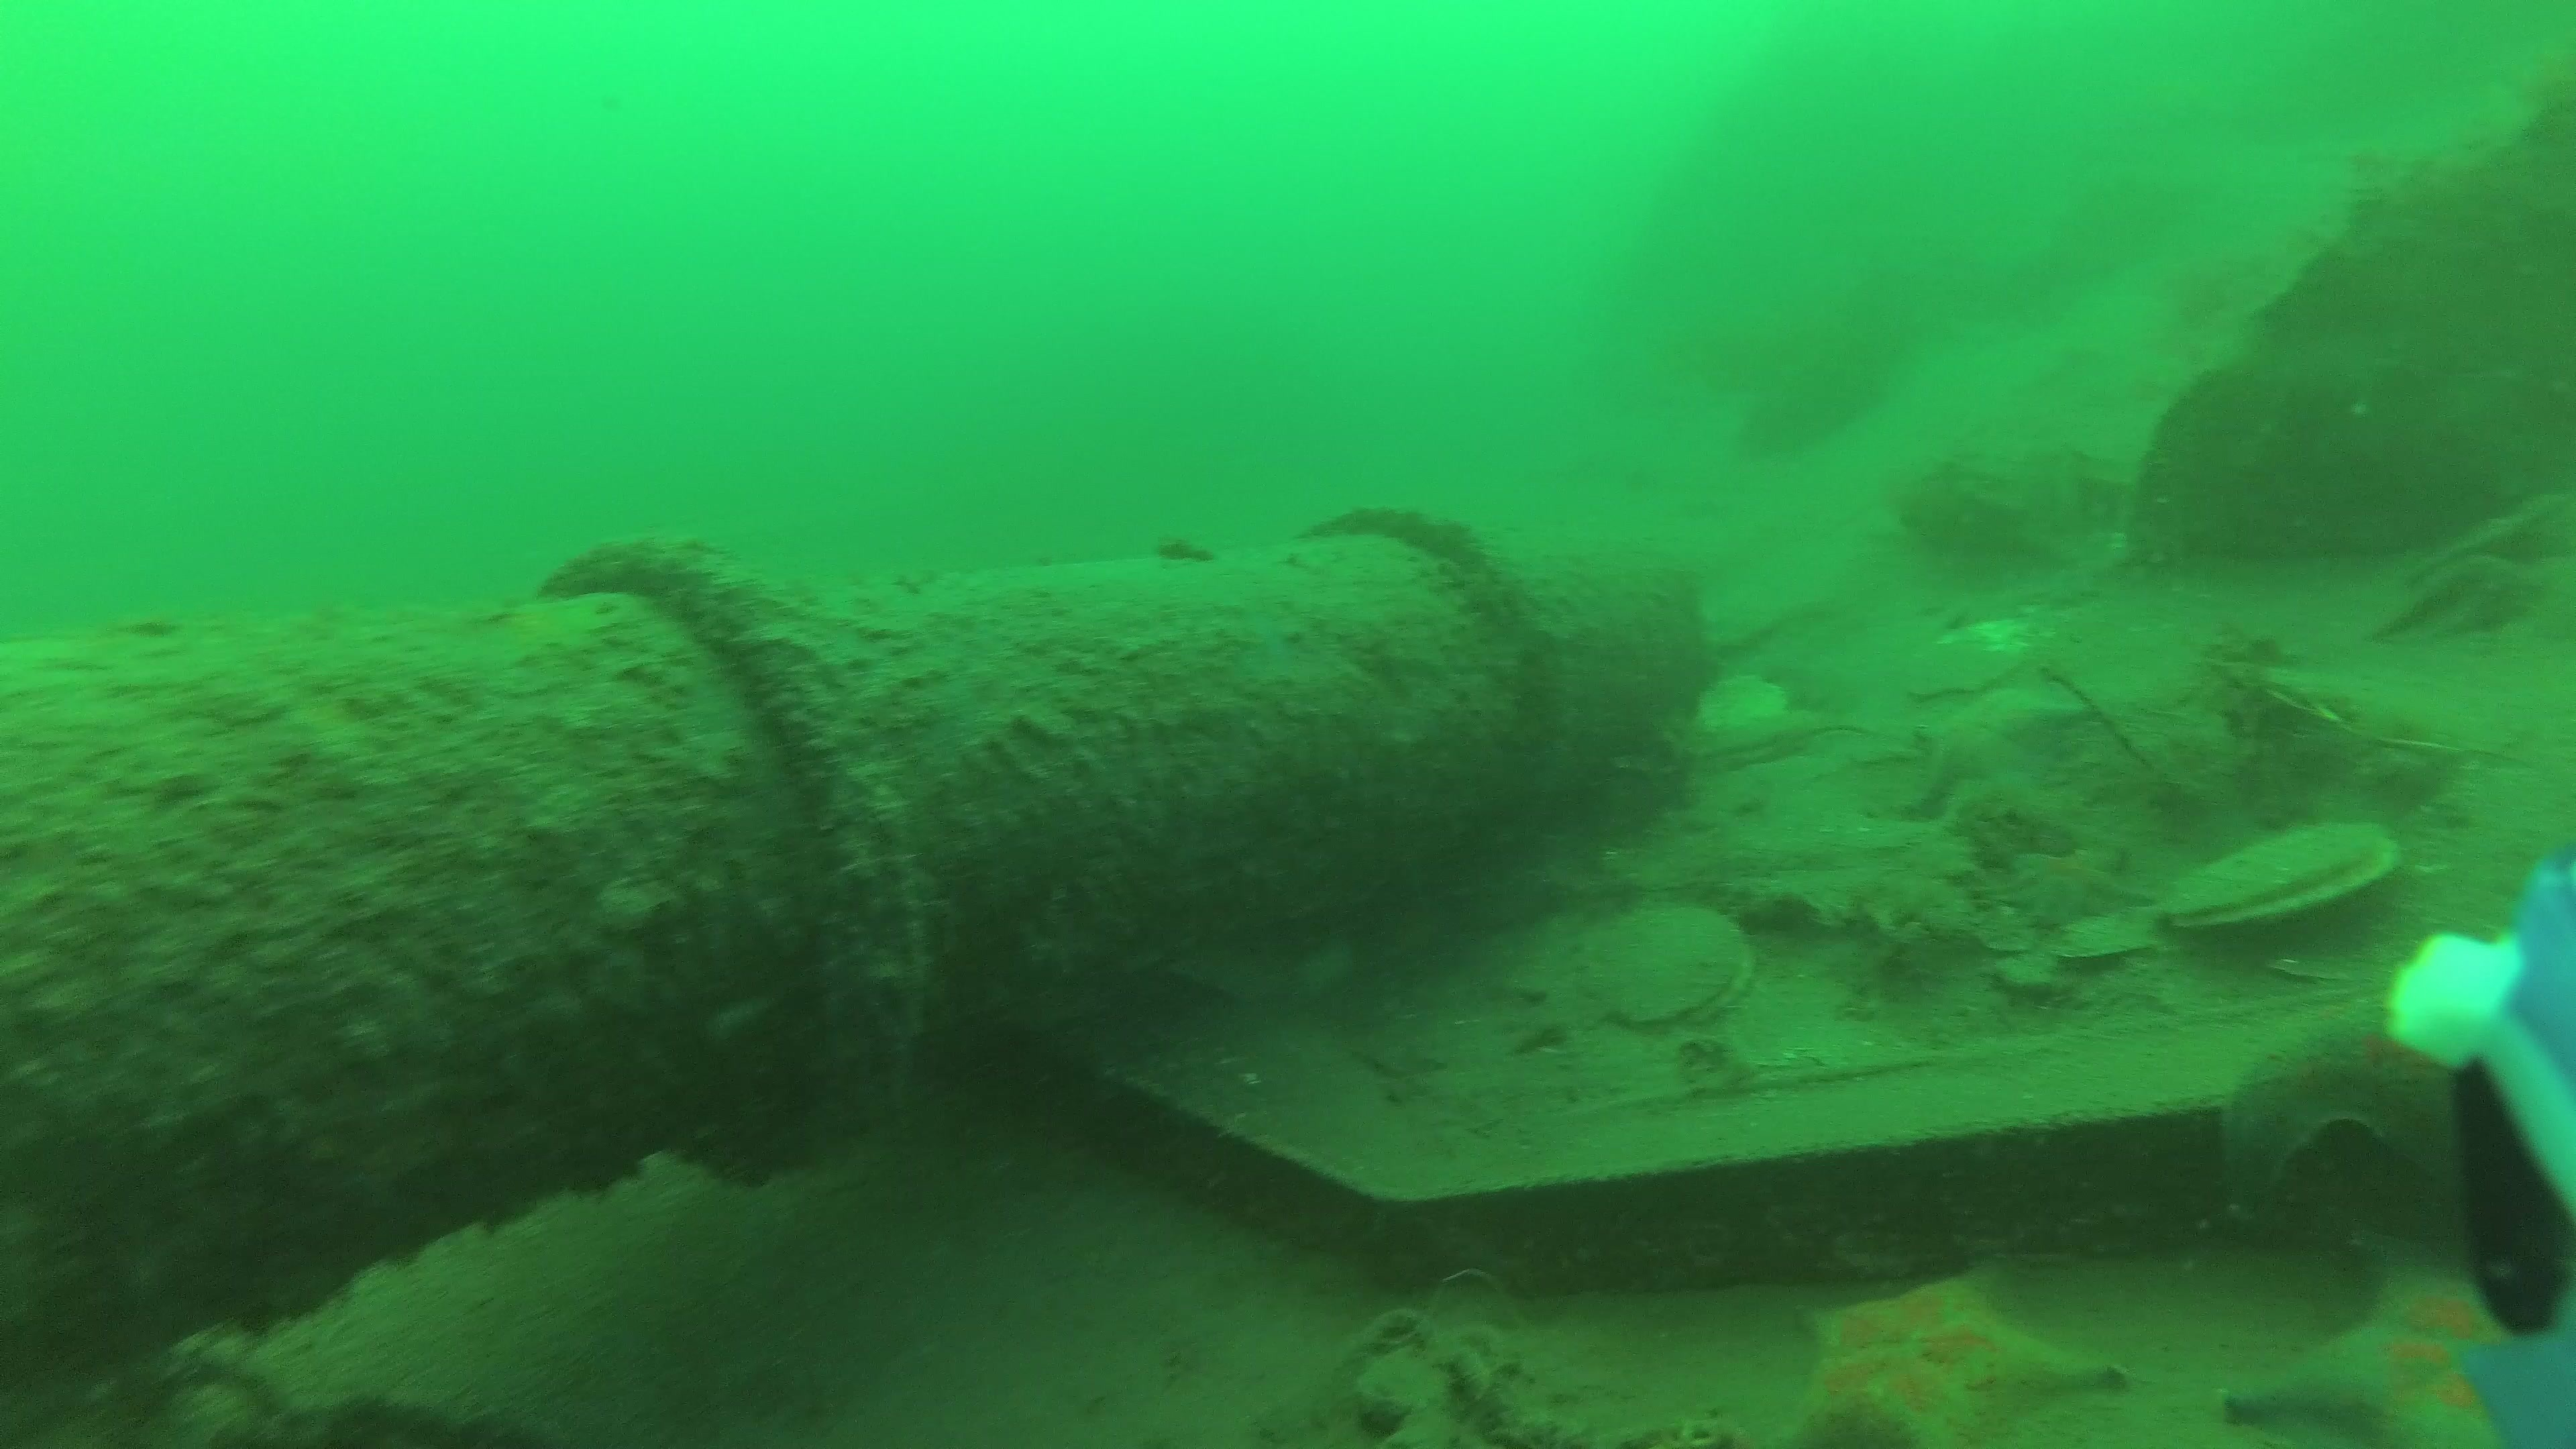scallop: (2158, 832, 2401, 936), (1591, 913, 1753, 1035), (1891, 596, 2072, 702), (1693, 667, 1796, 759)
starfish: (2220, 1258, 2542, 1449), (1805, 1281, 2130, 1449), (1902, 685, 2091, 821), (2005, 839, 2150, 929)
